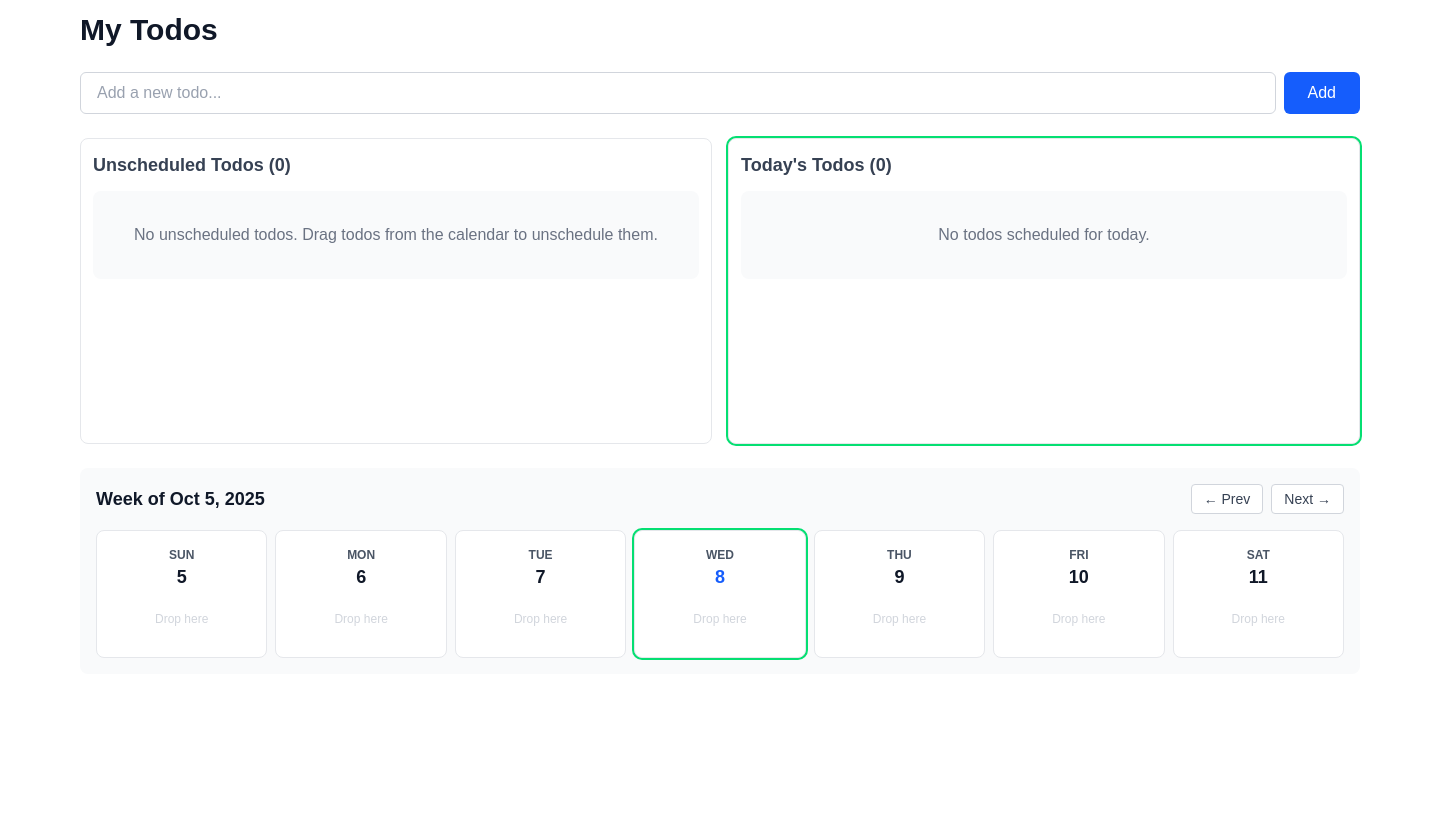
Scenario: Todos Persistence › should save new todos to localStorage
Type "New Todo" into the field with placeholder "Add a new todo...".
click(678, 93); type("New Todo")  # box 80,72 -> 1276,114
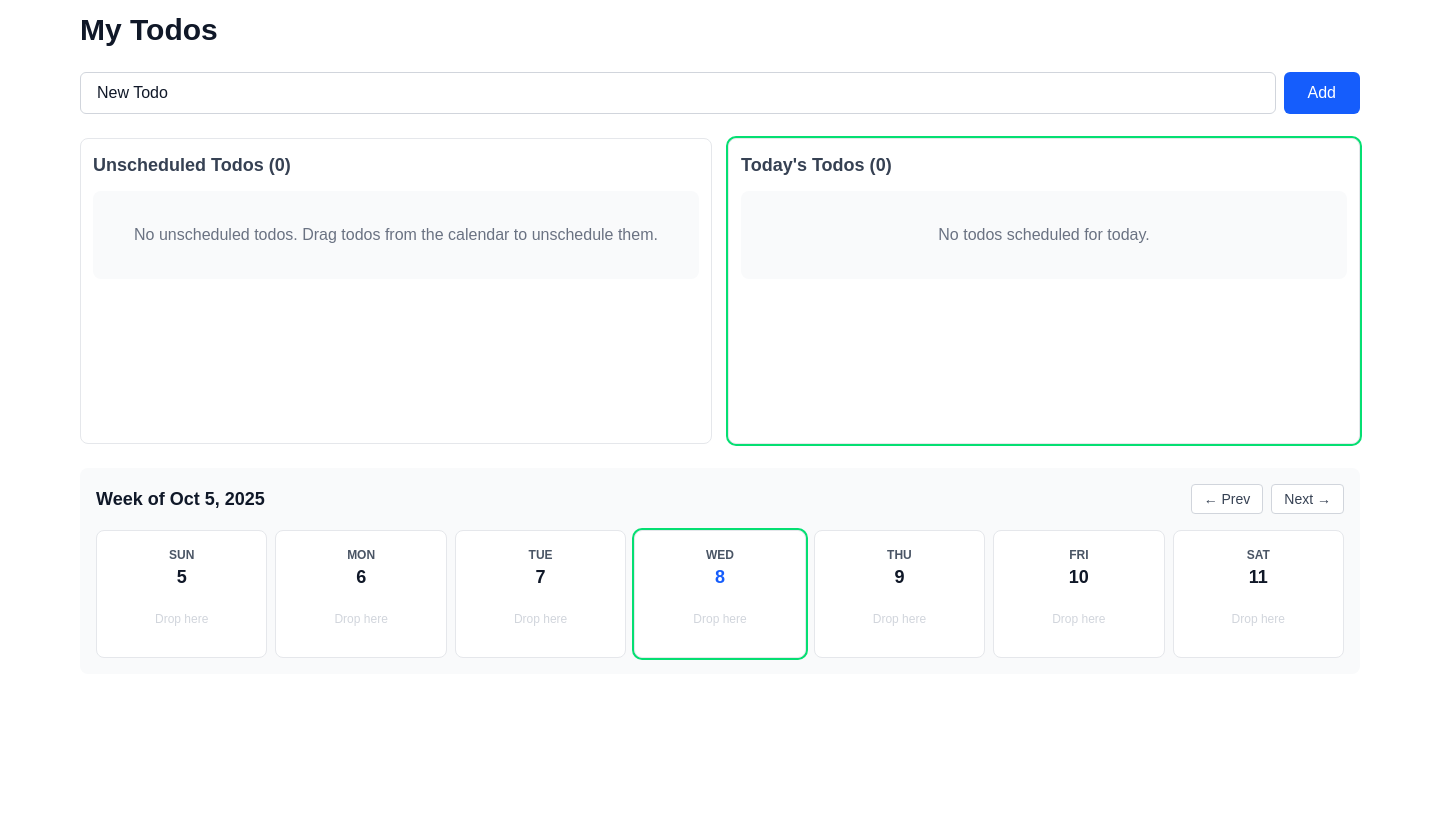
Click the button "Add".
click(1322, 93)  # box 1284,72 -> 1360,114
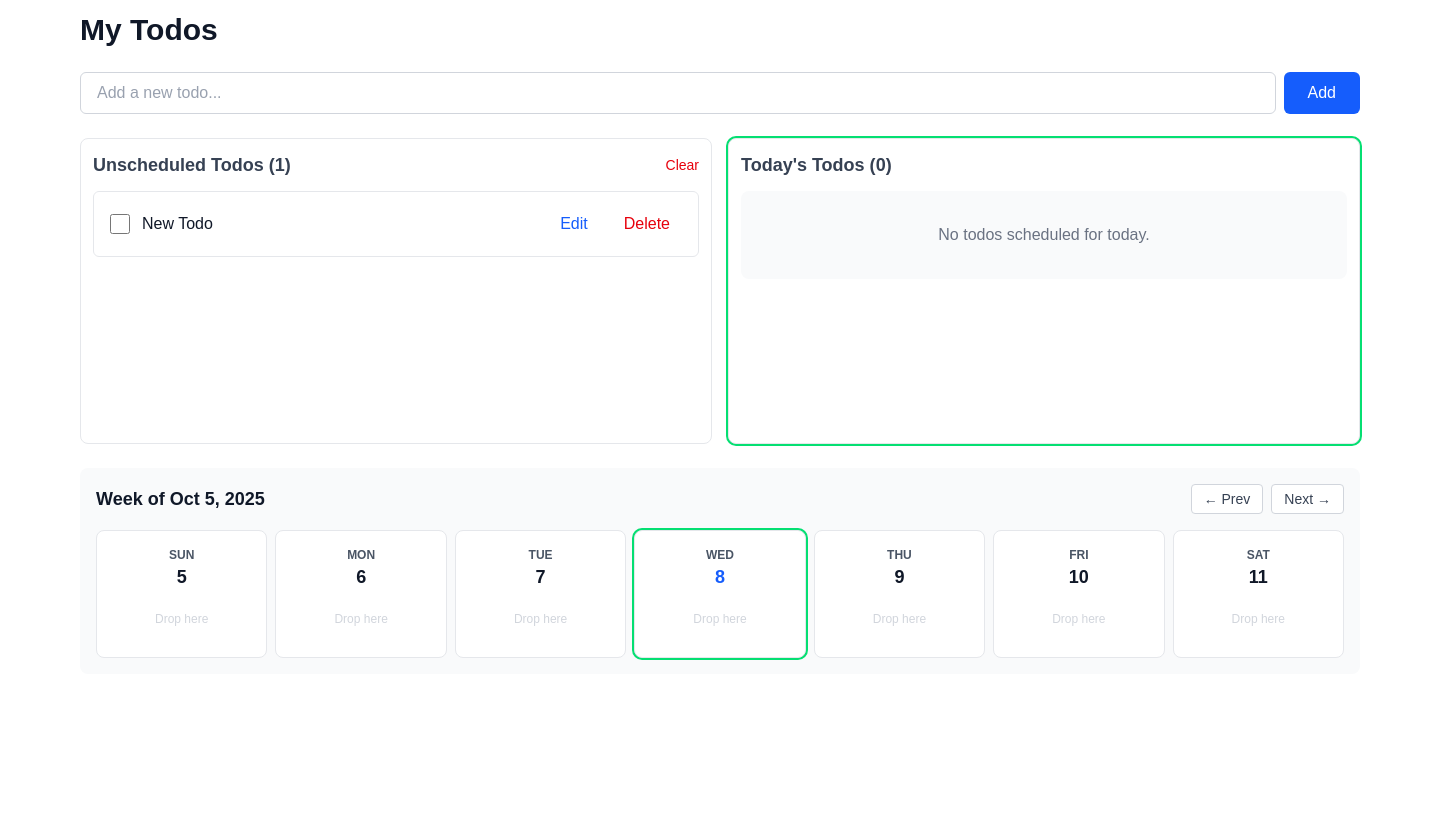
Now the text "New Todo" is shown, box 142,215 -> 213,232
